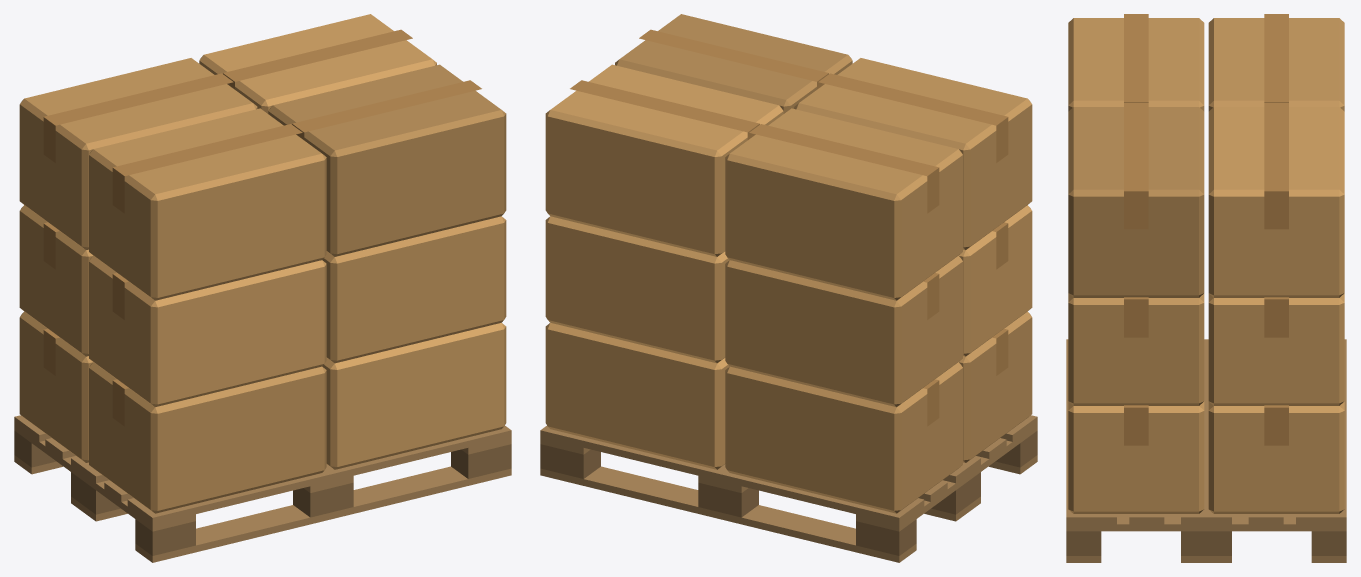
The model's file is pallet_boxes_b.glb.
The picture shows the model from 3 angles, left to right: view 1: azimuth 30°, elevation 25°; view 2: azimuth 150°, elevation 25°; view 3: azimuth 270°, elevation 25°; orthographic projection.
Parts seen in each view (by area): view 1: PalletBoxesB; view 2: PalletBoxesB; view 3: PalletBoxesB.
Part boxes in pixels (left/top/right/bottom): PalletBoxesB: left=14, top=14, right=511, bottom=562; PalletBoxesB: left=540, top=14, right=1037, bottom=562; PalletBoxesB: left=1066, top=14, right=1346, bottom=562.
Size of what is drawn, in the model's own units: 1.2 by 1.17 by 0.8.
